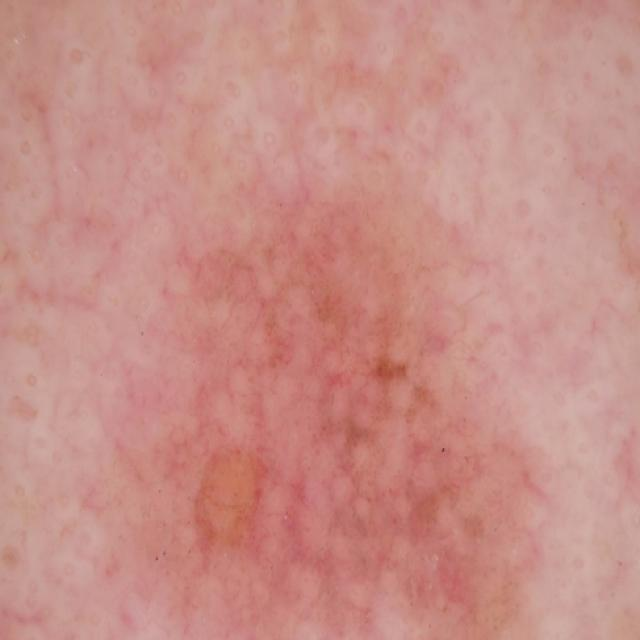Carcinoma: (175, 266, 558, 640)
